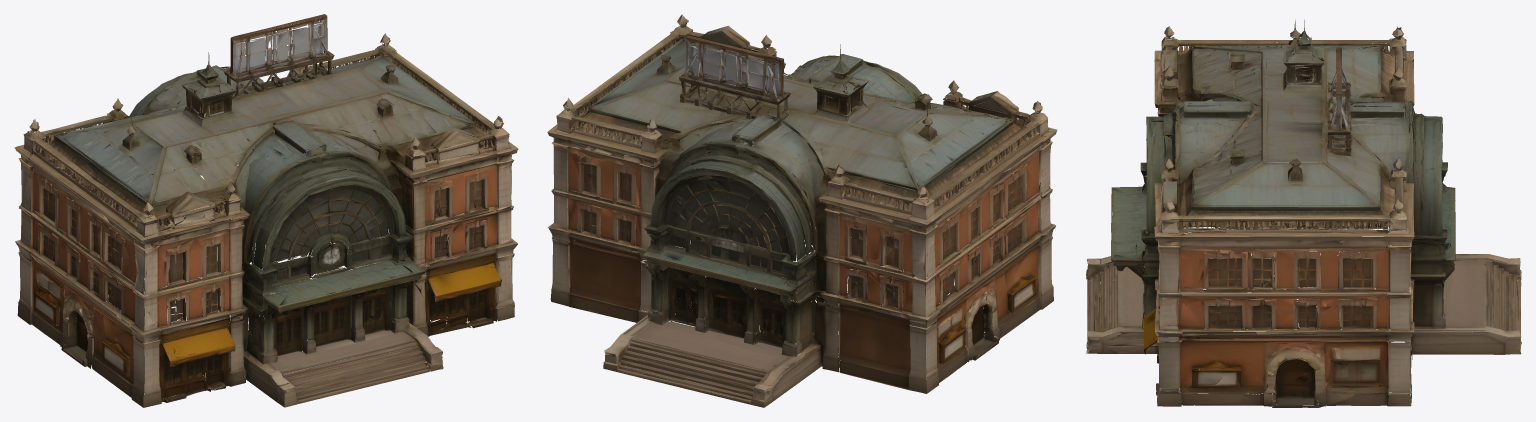
The model's file is ch03_landmark_civic_night_arcade.glb.
The picture shows the model from 3 angles, left to right: view 1: azimuth 30°, elevation 25°; view 2: azimuth 150°, elevation 25°; view 3: azimuth 270°, elevation 25°; orthographic projection.
Visible parts, largest first — view 1: material; view 2: material; view 3: material.
Part boxes in pixels (left/top/right/bottom): material: left=14, top=14, right=518, bottom=407; material: left=547, top=14, right=1057, bottom=407; material: left=1086, top=19, right=1521, bottom=407.
Bounding box in the file's own units: 0.8697 × 0.6066 × 0.86.
Materials: 1 (1 with a texture image).
